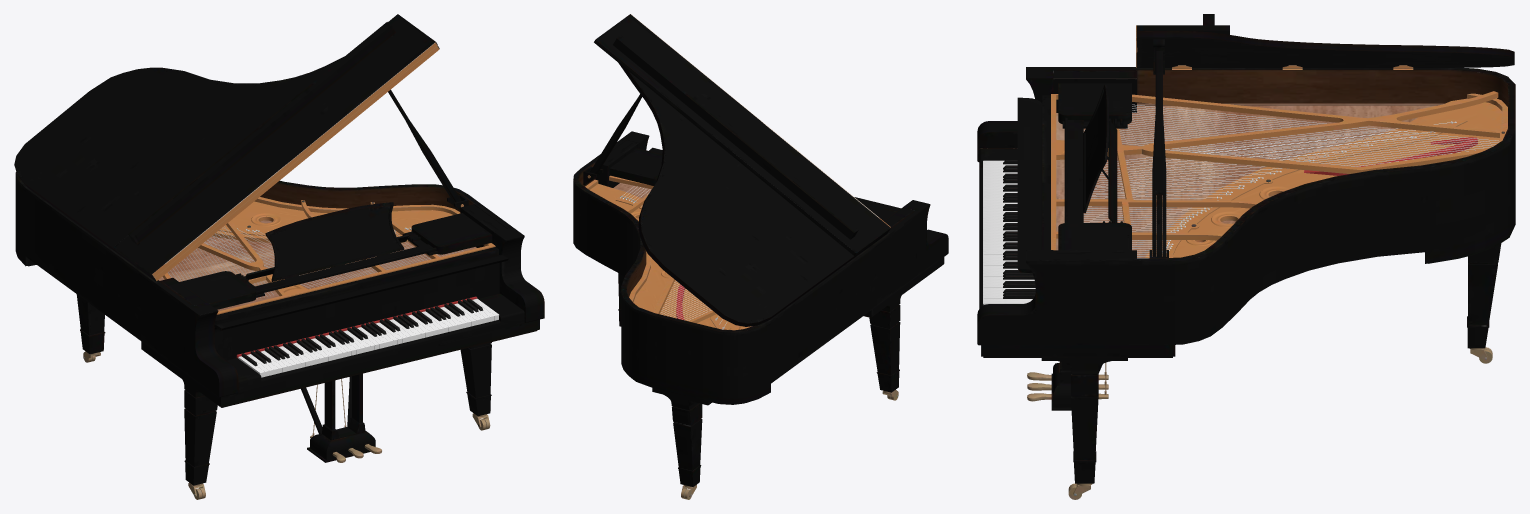
The model's file is piano-grand.glb.
3 views of the same model, side by side, from view 1: azimuth 30°, elevation 25°; view 2: azimuth 150°, elevation 25°; view 3: azimuth 270°, elevation 25° (orthographic). The views are drawn at different scales.
Visible parts, largest first — view 1: part0; view 2: part0; view 3: part0.
Boxes of the visible parts, x1,y1,x2,y2 form: part0: (14,14,544,499); part0: (573,14,948,499); part0: (977,14,1515,499).
Size of the model in its own units: 20.68 by 22.63 by 24.
1 material, 1 textured.
